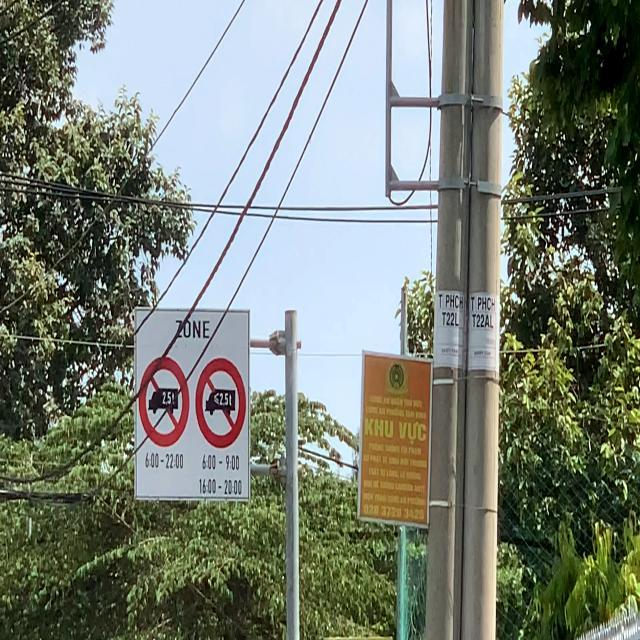Cam xe tai tren 2_5: (196, 352, 246, 449), (138, 356, 190, 448)
